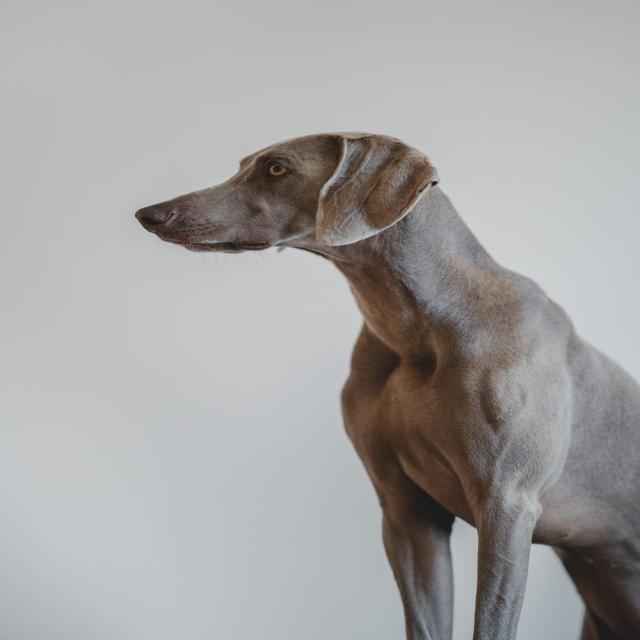Dog: (28, 70, 638, 634)
